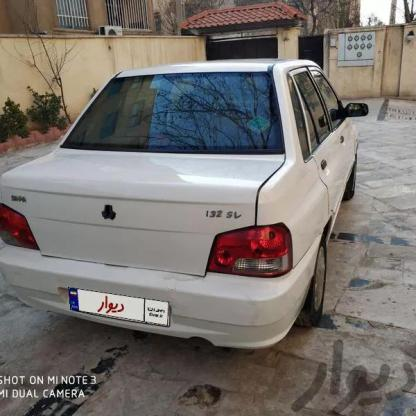Car: (0, 58, 378, 348)
